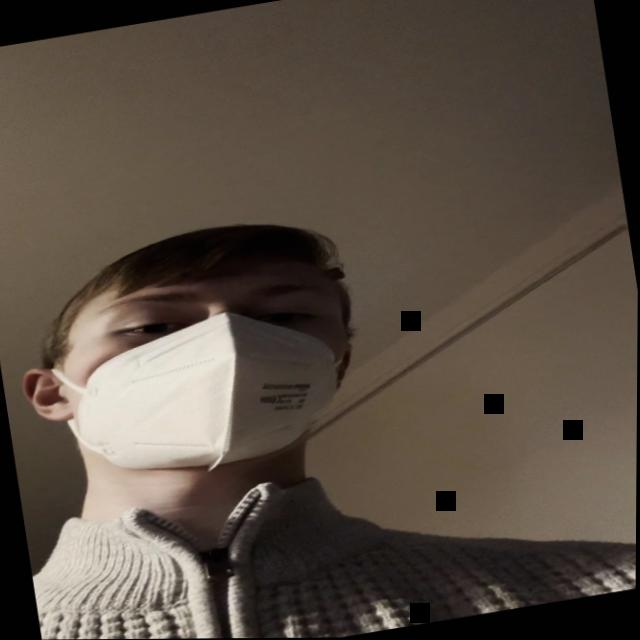Mask: (46, 239, 368, 488)
